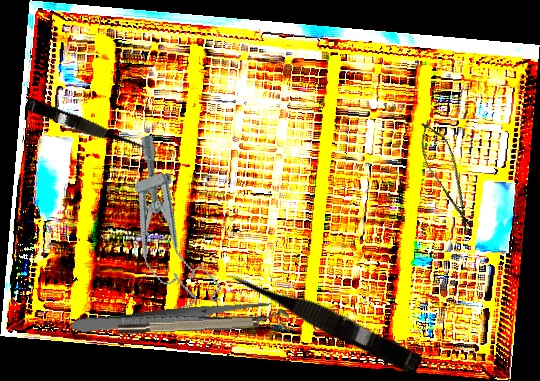Dressing Forceps: (70, 300, 275, 338)
Fixation Ring: (117, 308, 290, 338)
Micro Scissor: (224, 260, 426, 377), (410, 114, 484, 238), (23, 96, 149, 159)
Speculum: (105, 129, 225, 321)
